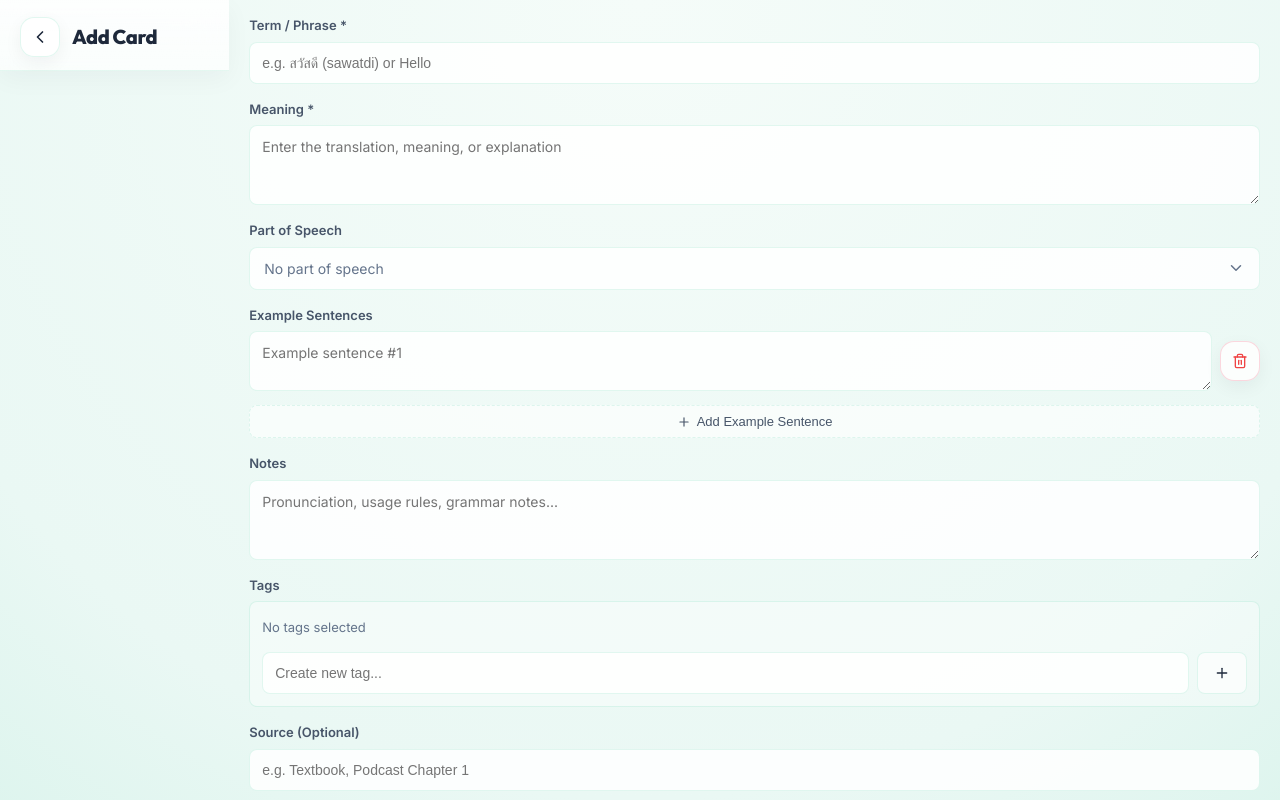
it: CardForm AI generation › shows the AI button only after a term is entered
The image size is (1280, 800).
Expected: the button "AI Generate" is not shown
In the field with placeholder "e.g. สวัสดี (sawatdi) or Hello": (755, 62) [249, 42, 1260, 84], type "make up"
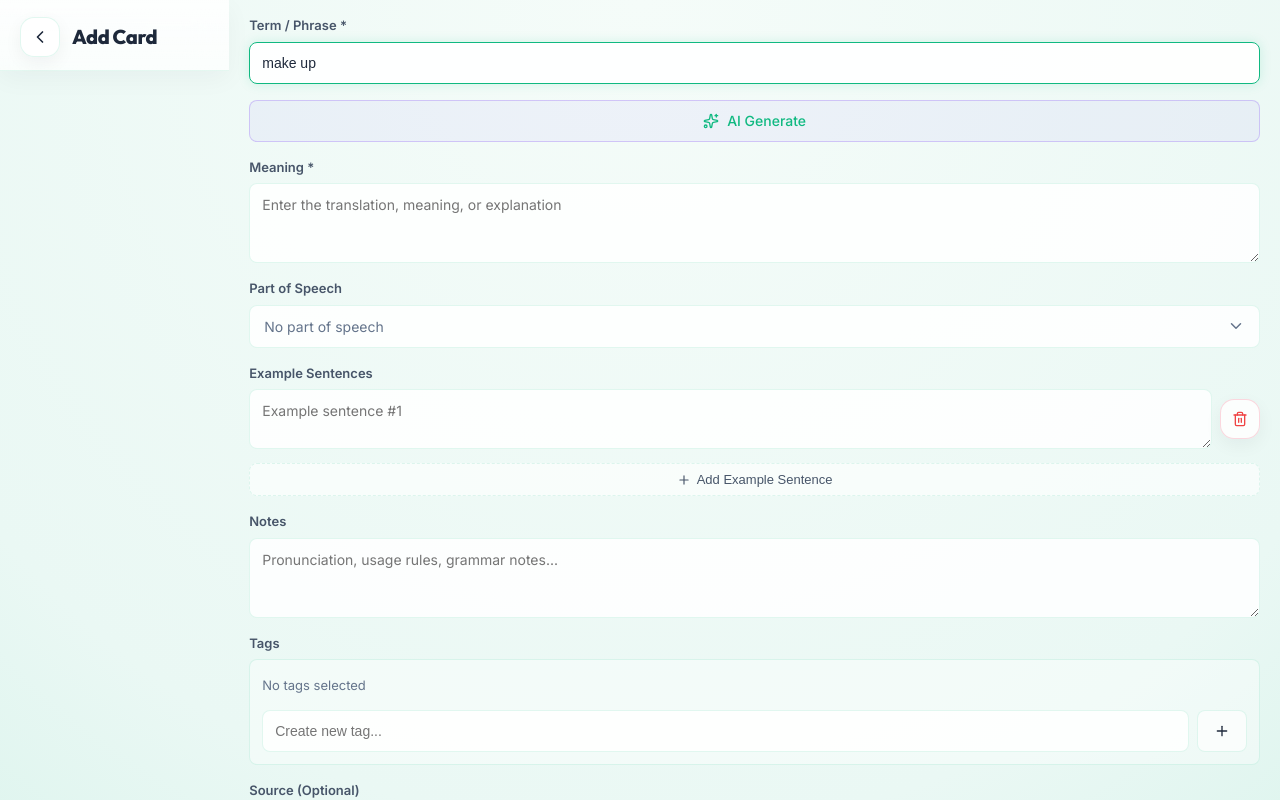
Now the button "AI Generate" is shown, box [249, 100, 1260, 142]
